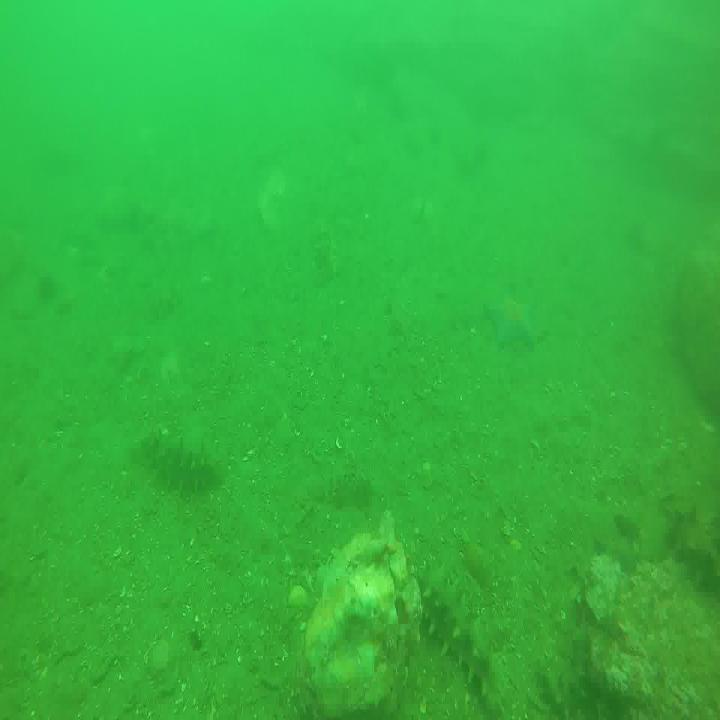holothurian: (417, 561, 510, 715), (136, 428, 227, 496), (664, 498, 720, 601)
starfish: (485, 286, 538, 350)
